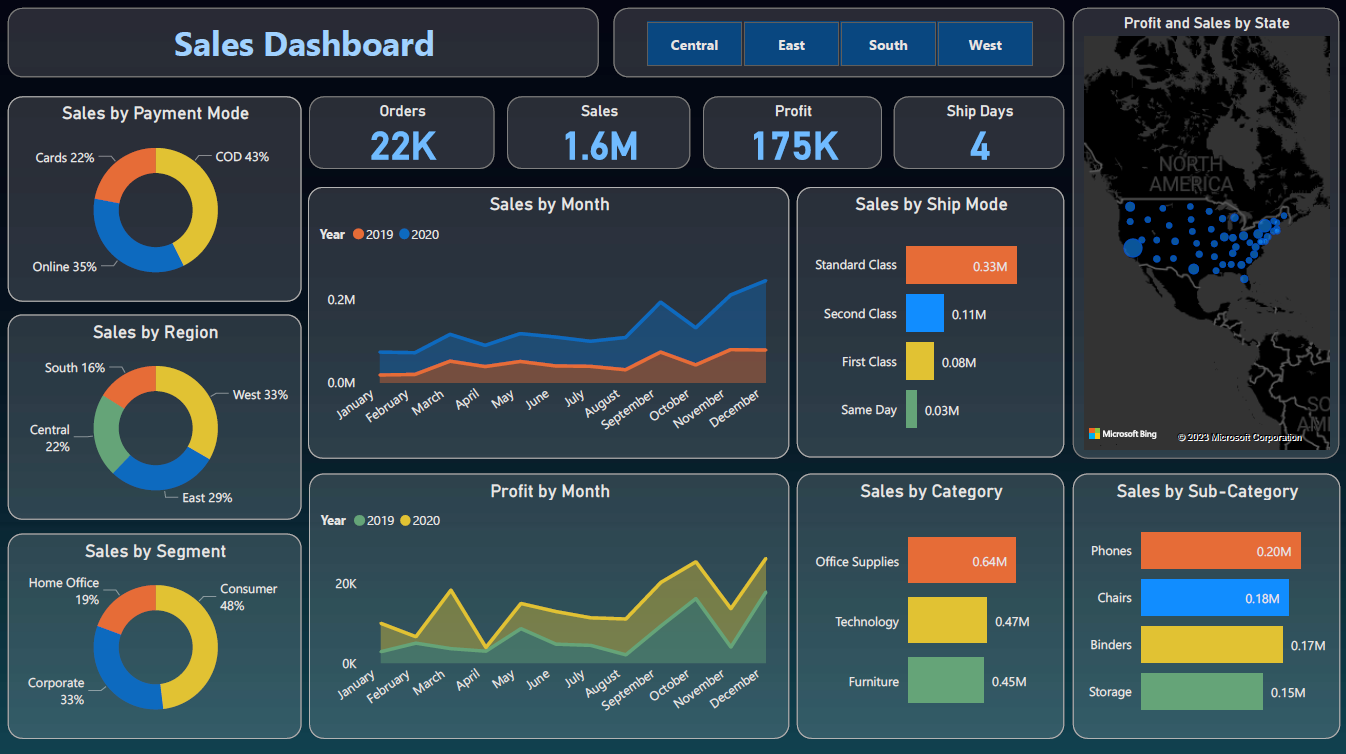

The dashboard page shown, as its layout file describes it:
{"tool":"powerbi","page":{"name":"Sales","canvas":[1280,720],"ordinal":0},"visuals":[{"type":"clusteredBarChart","title":"Sales by Category","fields":{"Category":["SuperStore_Sales_Dataset.Category"],"Y":["Sum(SuperStore_Sales_Dataset.Sales)"]},"box":[757,452,254,252],"z":0},{"type":"clusteredBarChart","title":"Sales by Sub-Category","fields":{"Category":["SuperStore_Sales_Dataset.Sub-Category"],"Y":["Sum(SuperStore_Sales_Dataset.Sales)"]},"box":[1019,452,254,252],"z":1000},{"type":"clusteredBarChart","title":"Sales by Ship Mode","fields":{"Category":["SuperStore_Sales_Dataset.Ship Mode"],"Y":["Sum(SuperStore_Sales_Dataset.Sales)"]},"box":[757,180,254,257],"z":2000},{"type":"stackedAreaChart","title":"Sales by Month","fields":{"Y":["Sum(SuperStore_Sales_Dataset.Sales)"],"Category":["SuperStore_Sales_Dataset.Order Date.Variation.Date Hierarchy.Month","SuperStore_Sales_Dataset.Order Date.Variation.Date Hierarchy.Day"],"Series":["SuperStore_Sales_Dataset.Order Date.Variation.Date Hierarchy.Year"]},"box":[293,180,457,258],"z":3000},{"type":"stackedAreaChart","title":"Profit by Month","fields":{"Category":["SuperStore_Sales_Dataset.Order Date.Variation.Date Hierarchy.Month","SuperStore_Sales_Dataset.Order Date.Variation.Date Hierarchy.Day"],"Series":["SuperStore_Sales_Dataset.Order Date.Variation.Date Hierarchy.Year"],"Y":["Sum(SuperStore_Sales_Dataset.Profit)"]},"box":[294,452,456,252],"z":4000},{"type":"map","title":"Profit and Sales by State","fields":{"Category":["SuperStore_Sales_Dataset.State"],"Size":["Sum(SuperStore_Sales_Dataset.Sales)"]},"box":[1019,10,253,428],"z":5000},{"type":"donutChart","title":"Sales by Segment","fields":{"Category":["SuperStore_Sales_Dataset.Segment"],"Y":["Sum(SuperStore_Sales_Dataset.Sales)"]},"box":[8,509,279,195],"z":6000},{"type":"donutChart","title":"Sales by Region","fields":{"Category":["SuperStore_Sales_Dataset.Region"],"Y":["Sum(SuperStore_Sales_Dataset.Sales)"]},"box":[8,301,279,195],"z":7000},{"type":"slicer","fields":{"Values":["SuperStore_Sales_Dataset.Region"]},"box":[583,10,428,66],"z":8000},{"type":"textbox","box":[8,10,561,66],"z":9000},{"type":"card","title":"Sales","fields":{"Values":["Sum(SuperStore_Sales_Dataset.Sales)"]},"box":[482,94,174,69],"z":10000},{"type":"card","title":"Orders","fields":{"Values":["Sum(SuperStore_Sales_Dataset.Quantity)"]},"box":[294,94,176,69],"z":11000},{"type":"card","title":"Profit","fields":{"Values":["Sum(SuperStore_Sales_Dataset.Profit)"]},"box":[668,94,170,69],"z":12000},{"type":"card","title":"Ship Days","fields":{"Values":["Avg(SuperStore_Sales_Dataset.AvgDelivery)"]},"box":[849,94,162,69],"z":13000},{"type":"donutChart","title":"Sales by Payment Mode","fields":{"Category":["SuperStore_Sales_Dataset.Payment Mode"],"Y":["Sum(SuperStore_Sales_Dataset.Sales)"]},"box":[8,94,279,195],"z":14000}]}

Visuals, with their boxes in screenshot pixels (x1, y1, x2, y2), scaled from the page's 1280x720 canvas onto the 1346x754 screenshot:
"Sales by Category" clusteredBarChart: <box>796,473,1063,737</box>
"Sales by Sub-Category" clusteredBarChart: <box>1072,473,1339,737</box>
"Sales by Ship Mode" clusteredBarChart: <box>796,188,1063,458</box>
"Sales by Month" stackedAreaChart: <box>308,188,789,459</box>
"Profit by Month" stackedAreaChart: <box>309,473,789,737</box>
"Profit and Sales by State" map: <box>1072,10,1338,459</box>
"Sales by Segment" donutChart: <box>8,533,302,737</box>
"Sales by Region" donutChart: <box>8,315,302,519</box>
slicer - SuperStore_Sales_Dataset.Region: <box>613,10,1063,80</box>
textbox: <box>8,10,598,80</box>
"Sales" card: <box>507,98,690,171</box>
"Orders" card: <box>309,98,494,171</box>
"Profit" card: <box>702,98,881,171</box>
"Ship Days" card: <box>893,98,1063,171</box>
"Sales by Payment Mode" donutChart: <box>8,98,302,303</box>
